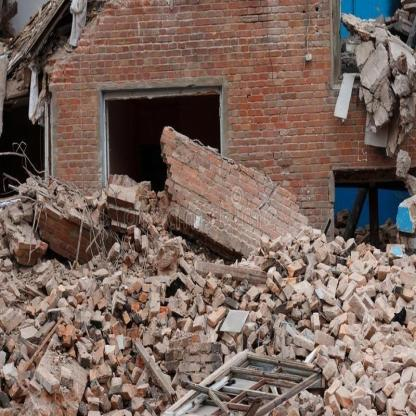brick: (0, 3, 415, 415)
